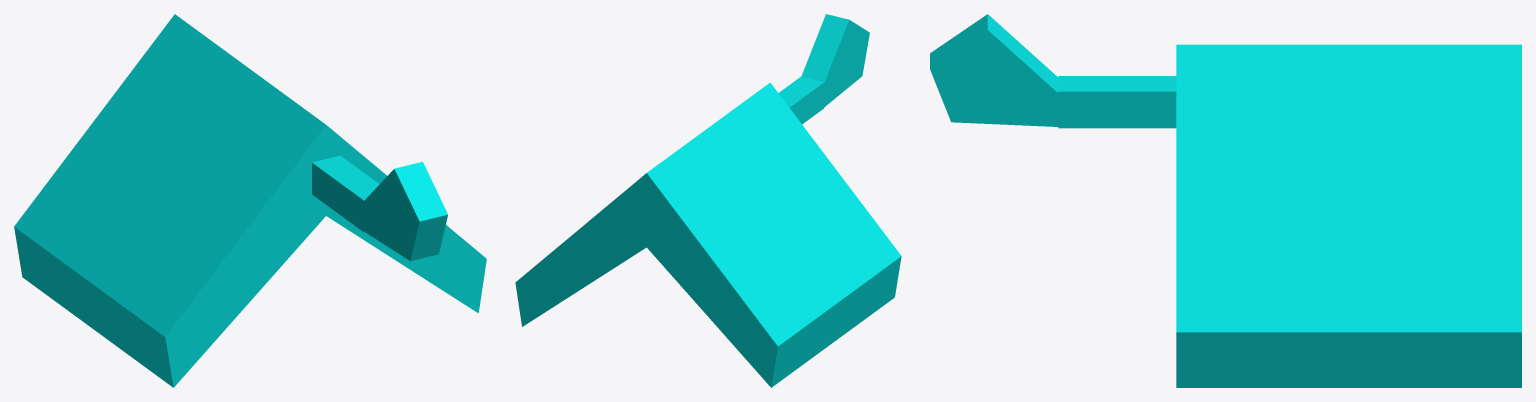
File: SM_Bld_Roof_Thatch_Preset_Overhang_04_Collision.fbx
The picture shows the model from 3 angles, left to right: view 1: azimuth 30°, elevation 25°; view 2: azimuth 150°, elevation 25°; view 3: azimuth 270°, elevation 25°; orthographic projection. The views are drawn at different scales.
Visible parts, largest first — view 1: SM_Bld_Roof_Thatch_Preset_Overhang_04_Collision; view 2: SM_Bld_Roof_Thatch_Preset_Overhang_04_Collision; view 3: SM_Bld_Roof_Thatch_Preset_Overhang_04_Collision.
Boxes of the visible parts, left/top/right/bottom form: SM_Bld_Roof_Thatch_Preset_Overhang_04_Collision: left=14, top=14, right=486, bottom=387; SM_Bld_Roof_Thatch_Preset_Overhang_04_Collision: left=515, top=14, right=901, bottom=387; SM_Bld_Roof_Thatch_Preset_Overhang_04_Collision: left=930, top=14, right=1521, bottom=387.
Bounding box in the file's own units: 194 × 141 × 270.
